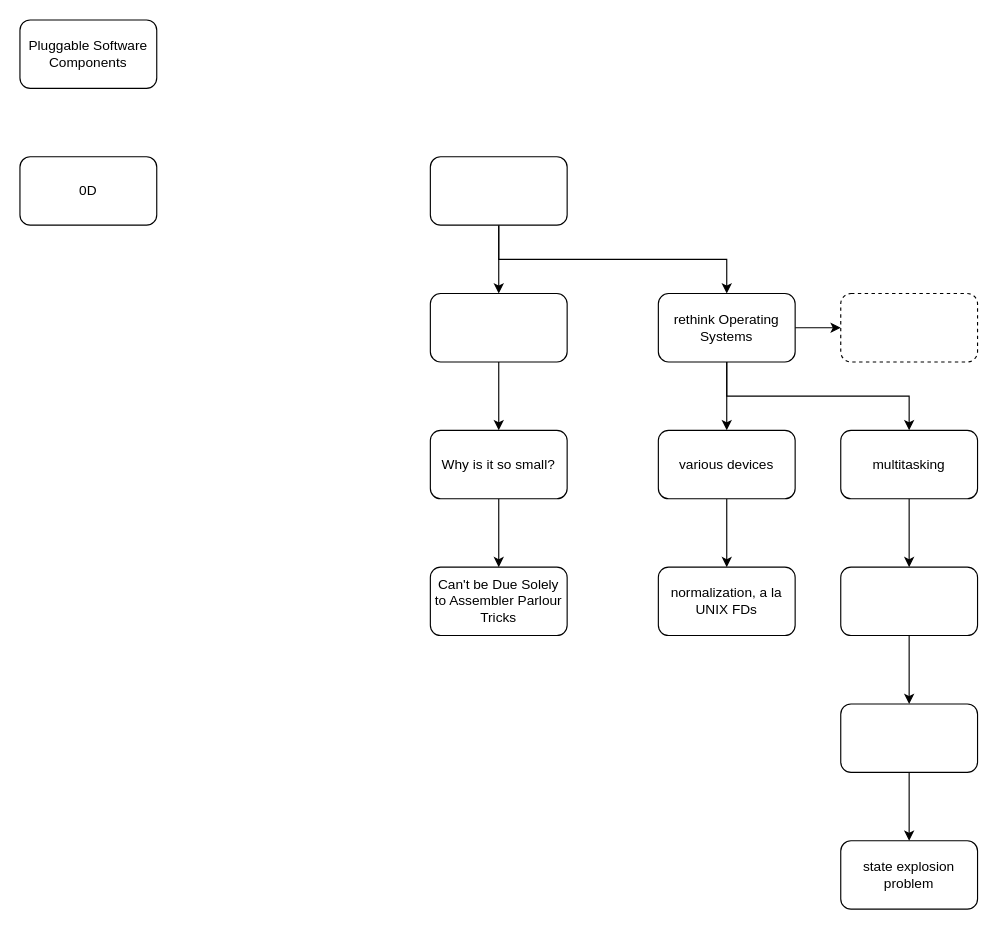
Image size: 998x929. Some labels were removed from this diagram. Each missing label, with the centre of its shape:
anti-Bloatware: the point at 498,190
huge - why?: the point at 909,327
inner concurrency ė: the point at 909,601
state machines: the point at 909,737
Study Sector Lisp: the point at 498,327
